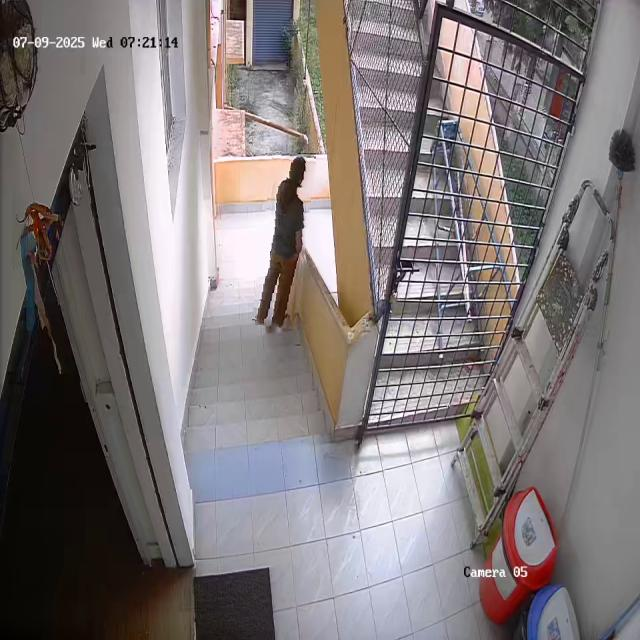person: (257, 151, 311, 328)
